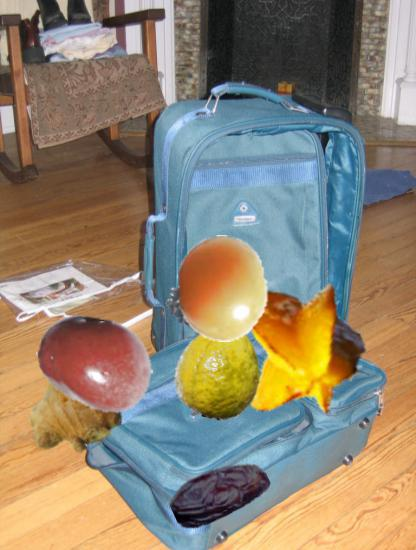Carambula: (228, 276, 378, 426)
Cherry: (35, 305, 154, 424), (169, 235, 277, 343)
Dates: (169, 443, 271, 545)
Ginger: (14, 346, 123, 455)
Guava: (170, 321, 268, 419)
Mulberry: (165, 268, 234, 337)
